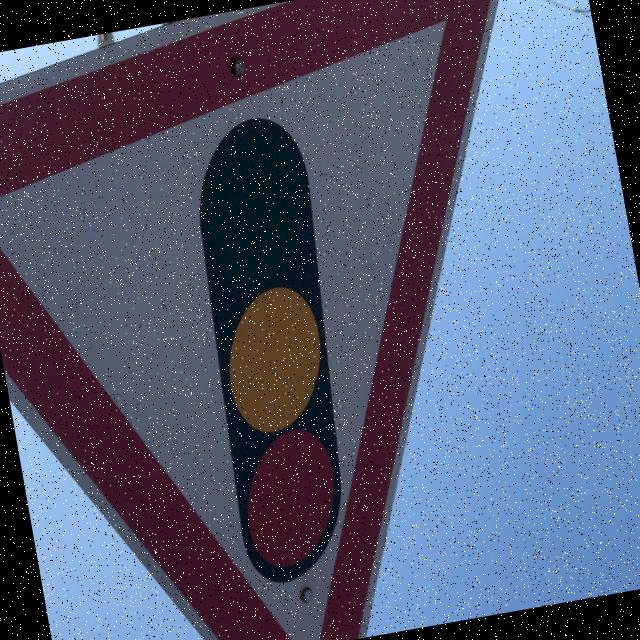light_traffic: (0, 0, 633, 640)
